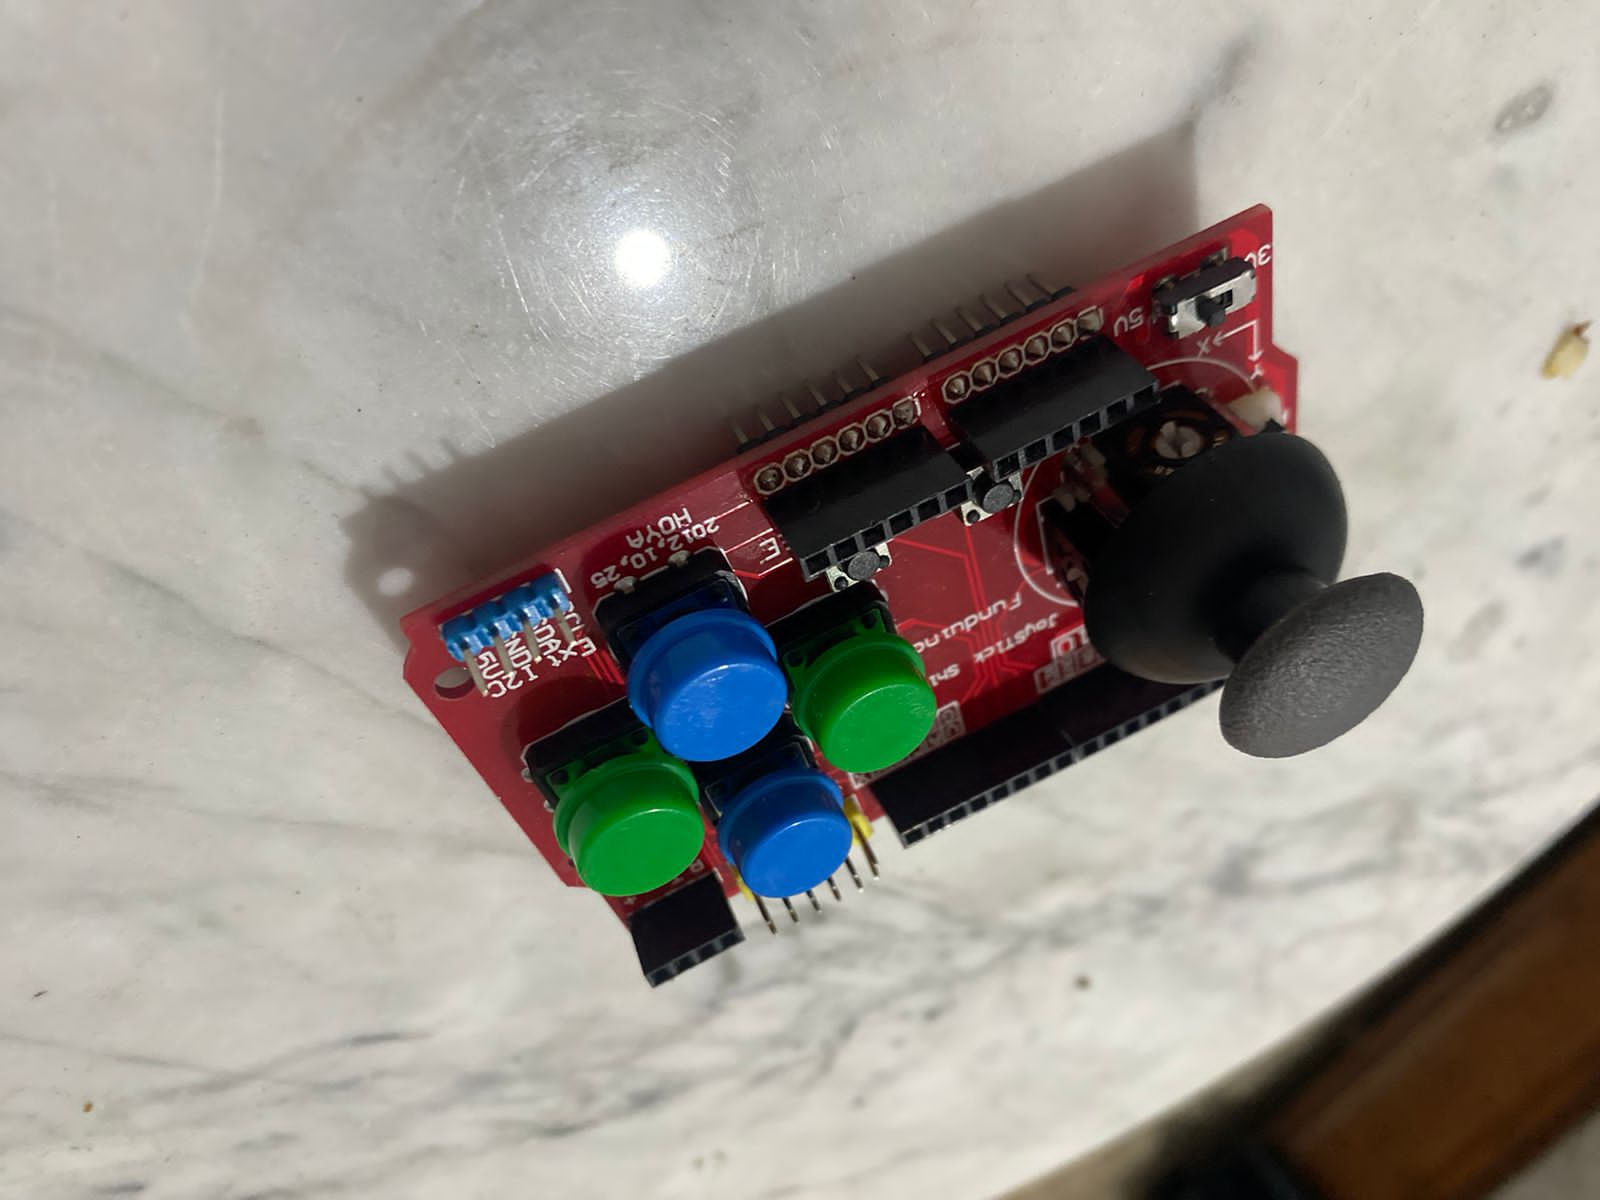Clavier-Joystick: (358, 180, 1427, 993)
